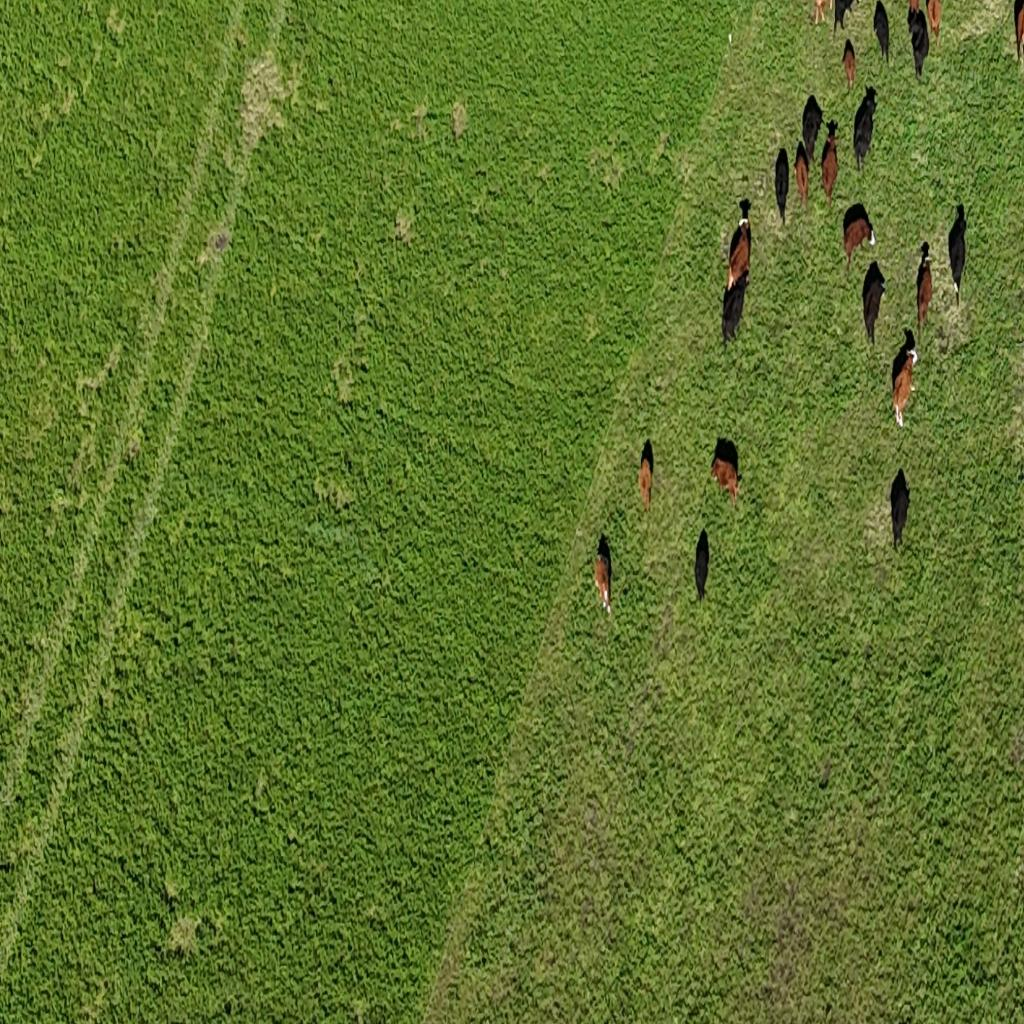cow: (842, 201, 876, 271), (726, 202, 752, 292), (852, 85, 878, 172), (862, 260, 886, 346), (722, 268, 749, 344), (892, 352, 916, 428), (890, 467, 910, 551), (908, 3, 930, 79), (820, 120, 840, 202), (916, 242, 932, 330), (951, 216, 967, 300), (709, 459, 740, 498), (694, 528, 710, 603), (794, 138, 810, 209), (594, 554, 612, 617), (775, 147, 789, 224), (873, 0, 890, 63), (831, 0, 857, 38), (842, 37, 857, 91), (803, 105, 819, 155), (638, 460, 652, 512)
